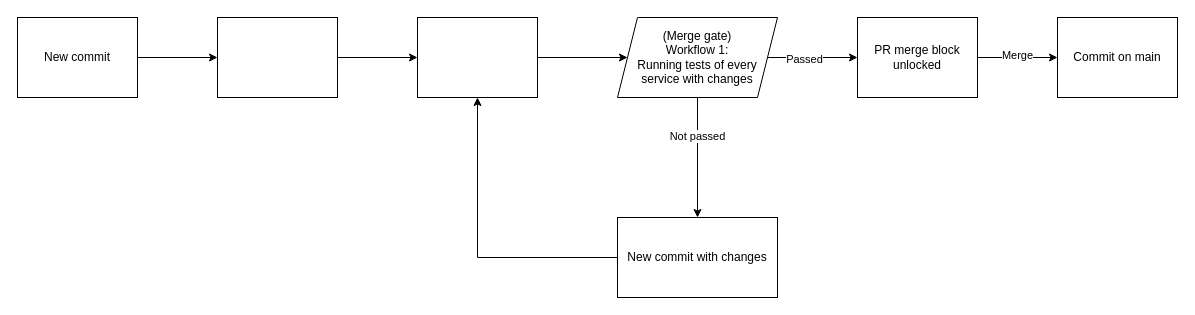
The diagram is 1195 pixels wide and 315 high, and some of its shapes have lost their labels. Here are the shapes that lost their labels. From the top down, the box of each, then its label:
(216, 16, 338, 98): PR opened
(416, 16, 538, 98): PR blocked from merge
